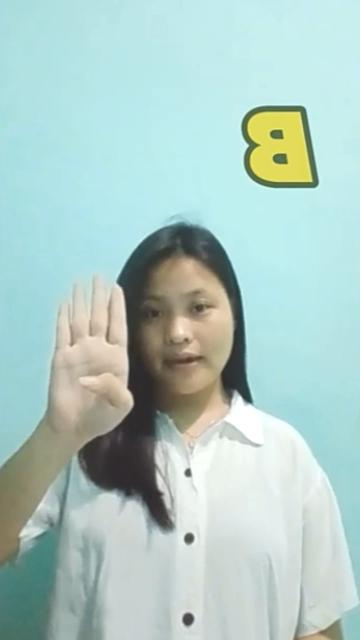B: (48, 272, 132, 450)
